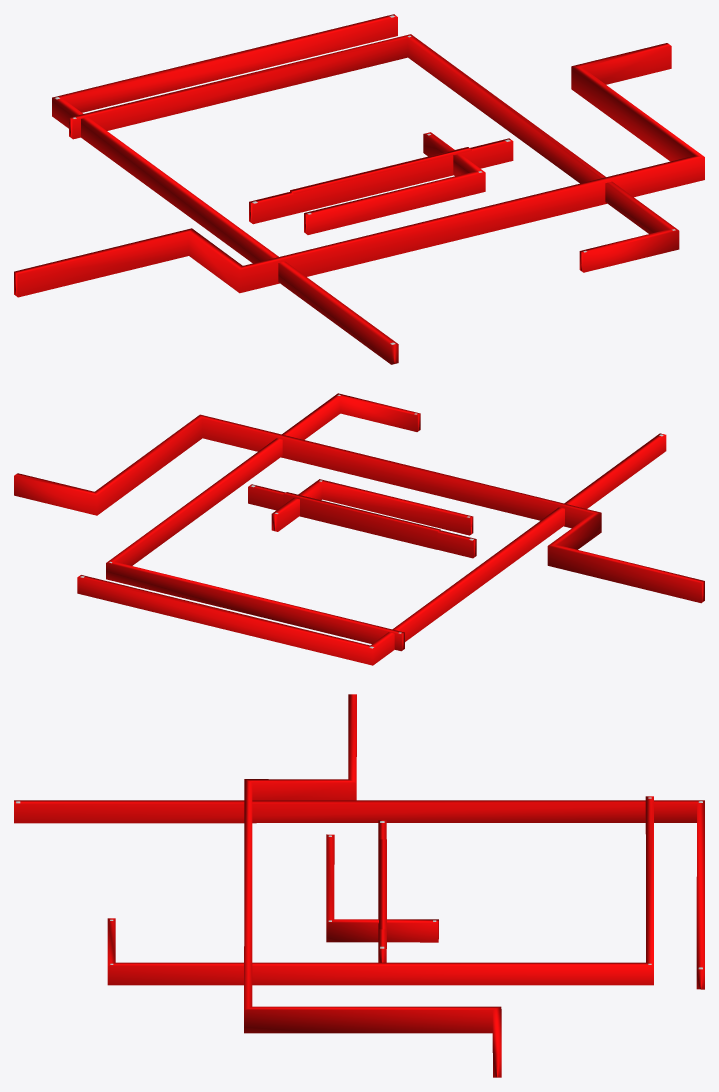
Rendered from bauernhof_mauersegmente_01.fbx.
3 views of the same model, one above another, from view 1: azimuth 30°, elevation 25°; view 2: azimuth 150°, elevation 25°; view 3: azimuth 270°, elevation 25° (orthographic). The views are drawn at different scales.
Visible parts, largest first — view 1: farm_mauer_segment_colmesh_01, farm_mauer_segment_colmesh_02, farm_mauer_segment_colmesh_03, farm_mauer_segment_colmesh_06, farm_mauer_segment_colmesh_04, farm_mauer_segment_colmesh_05; view 2: farm_mauer_segment_colmesh_01, farm_mauer_segment_colmesh_03, farm_mauer_segment_colmesh_02, farm_mauer_segment_colmesh_04, farm_mauer_segment_colmesh_05, farm_mauer_segment_colmesh_06; view 3: farm_mauer_segment_colmesh_03, farm_mauer_segment_colmesh_02, farm_mauer_segment_colmesh_01, farm_mauer_segment_colmesh_04, farm_mauer_segment_colmesh_05.
Boxes of the visible parts, <box> form: farm_mauer_segment_colmesh_01: <box>14,43,704,297</box>; farm_mauer_segment_colmesh_02: <box>69,34,679,272</box>; farm_mauer_segment_colmesh_03: <box>52,14,398,364</box>; farm_mauer_segment_colmesh_06: <box>249,138,513,224</box>; farm_mauer_segment_colmesh_04: <box>304,132,485,234</box>; farm_mauer_segment_colmesh_05: <box>290,147,471,194</box>; farm_mauer_segment_colmesh_01: <box>14,414,704,603</box>; farm_mauer_segment_colmesh_03: <box>77,433,666,665</box>; farm_mauer_segment_colmesh_02: <box>106,393,420,651</box>; farm_mauer_segment_colmesh_04: <box>271,479,473,535</box>; farm_mauer_segment_colmesh_05: <box>283,492,440,549</box>; farm_mauer_segment_colmesh_06: <box>248,484,476,558</box>; farm_mauer_segment_colmesh_03: <box>14,800,704,989</box>; farm_mauer_segment_colmesh_02: <box>107,796,653,985</box>; farm_mauer_segment_colmesh_01: <box>244,694,501,1077</box>; farm_mauer_segment_colmesh_04: <box>326,834,438,942</box>; farm_mauer_segment_colmesh_05: <box>379,839,386,948</box>.
Bounding box in the file's own units: 5314 × 160 × 4312.
